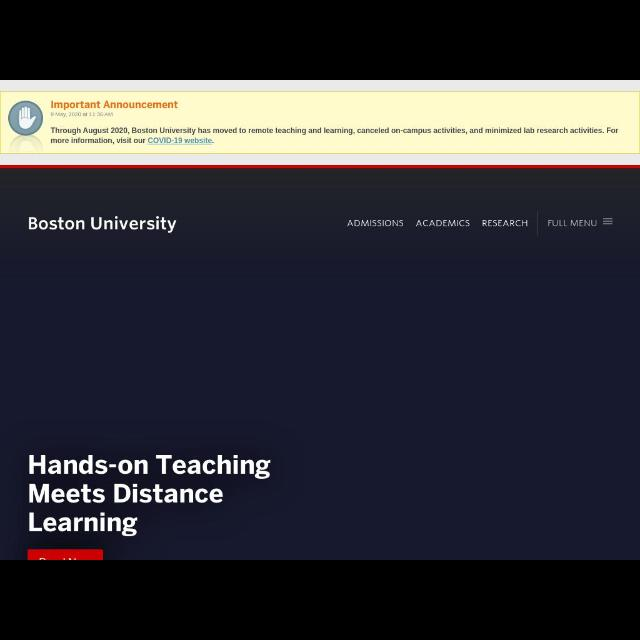icon: (602, 216, 612, 224)
image: (8, 100, 44, 136)
link: (148, 136, 212, 146)
text: (28, 452, 272, 538), (51, 127, 618, 145), (27, 216, 177, 234), (50, 100, 178, 108), (347, 218, 405, 228), (416, 219, 470, 229), (546, 218, 596, 228), (52, 112, 115, 118), (481, 220, 527, 227)
